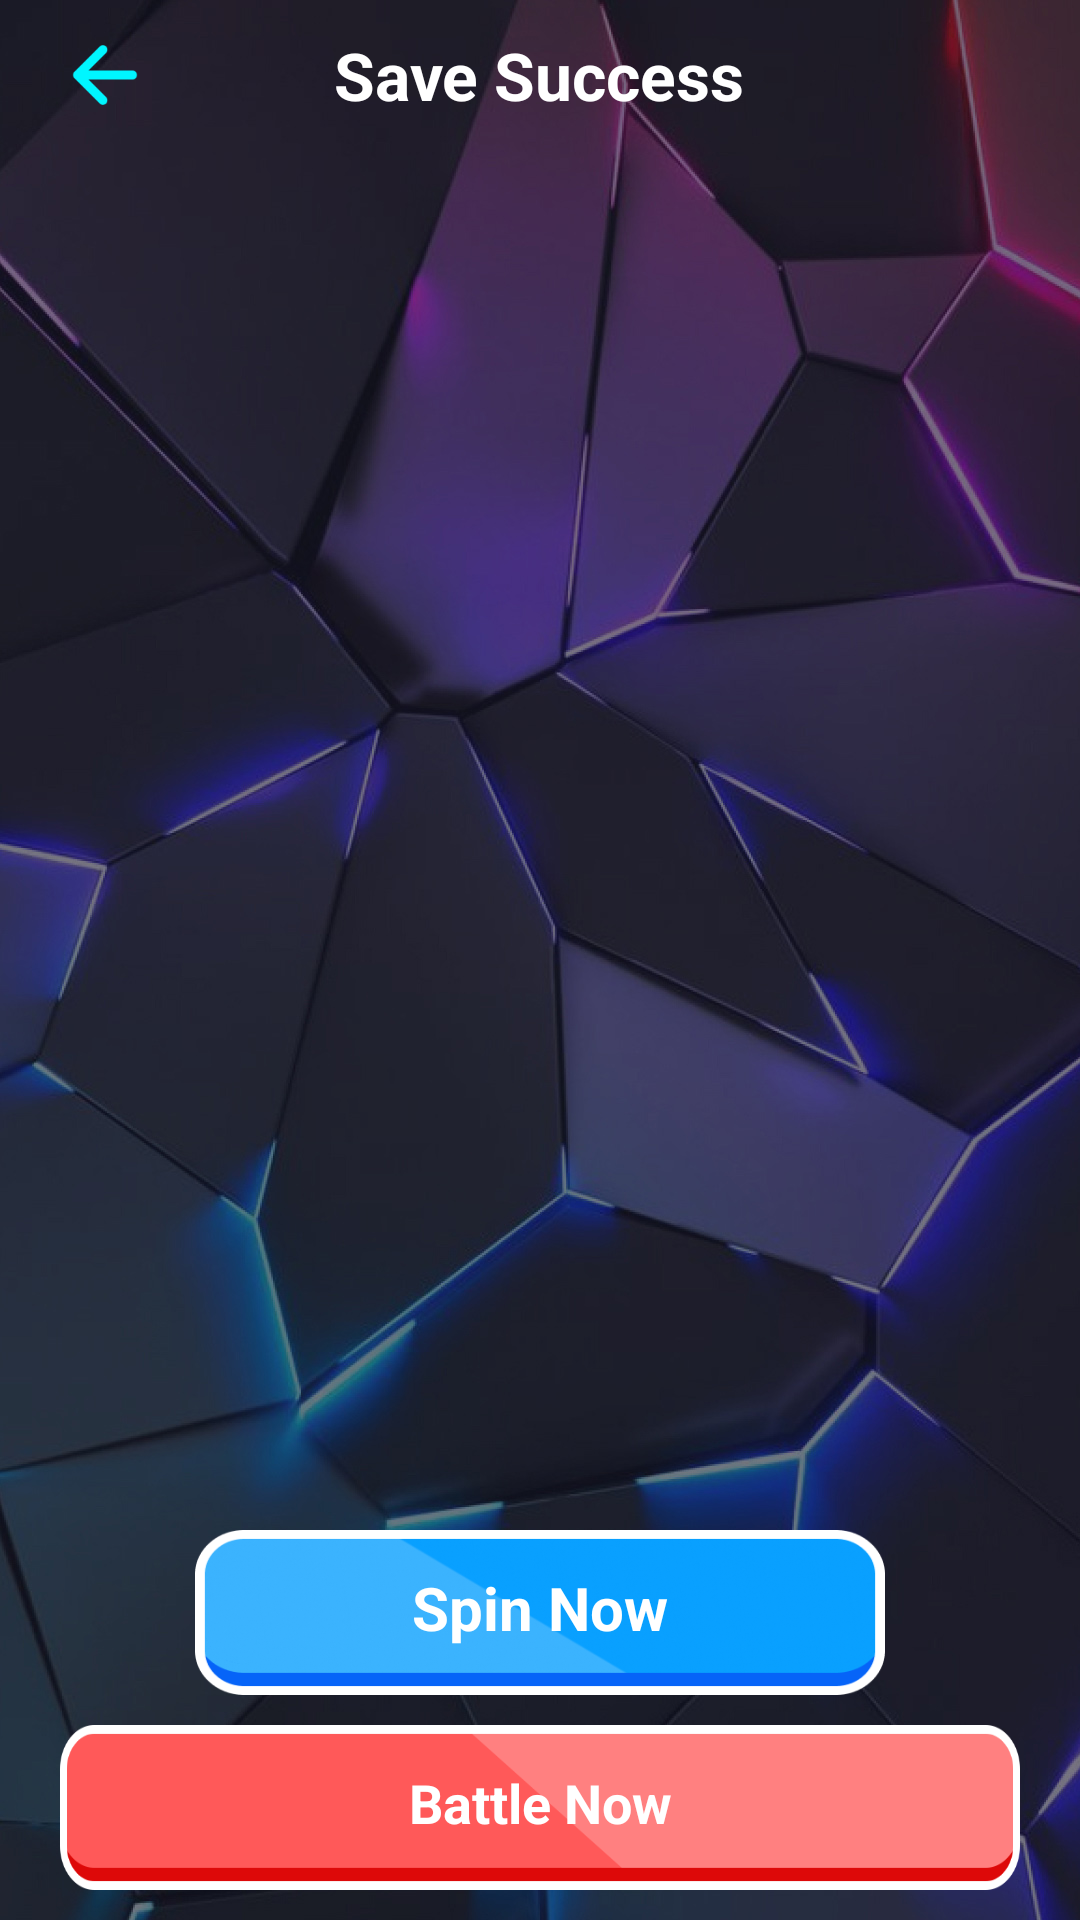

Icon bounding boxes for this 1080px×1920px phone screenshot, format Rect(x1, y1, x2, y2):
back: Rect(73, 45, 138, 105)
